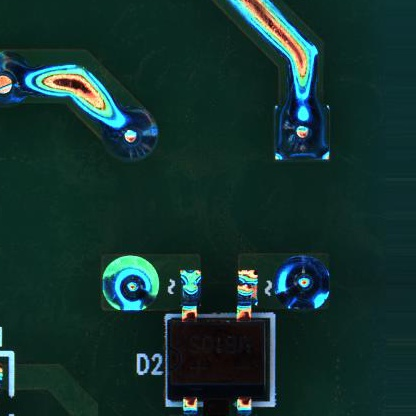spot: (274, 254, 333, 316), (101, 252, 159, 315), (273, 104, 334, 163), (101, 109, 162, 160)
